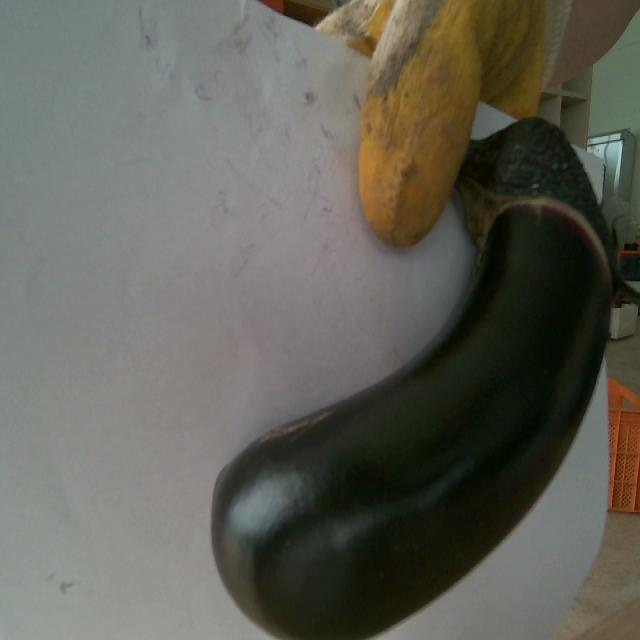Egg plant: (212, 119, 613, 636)
